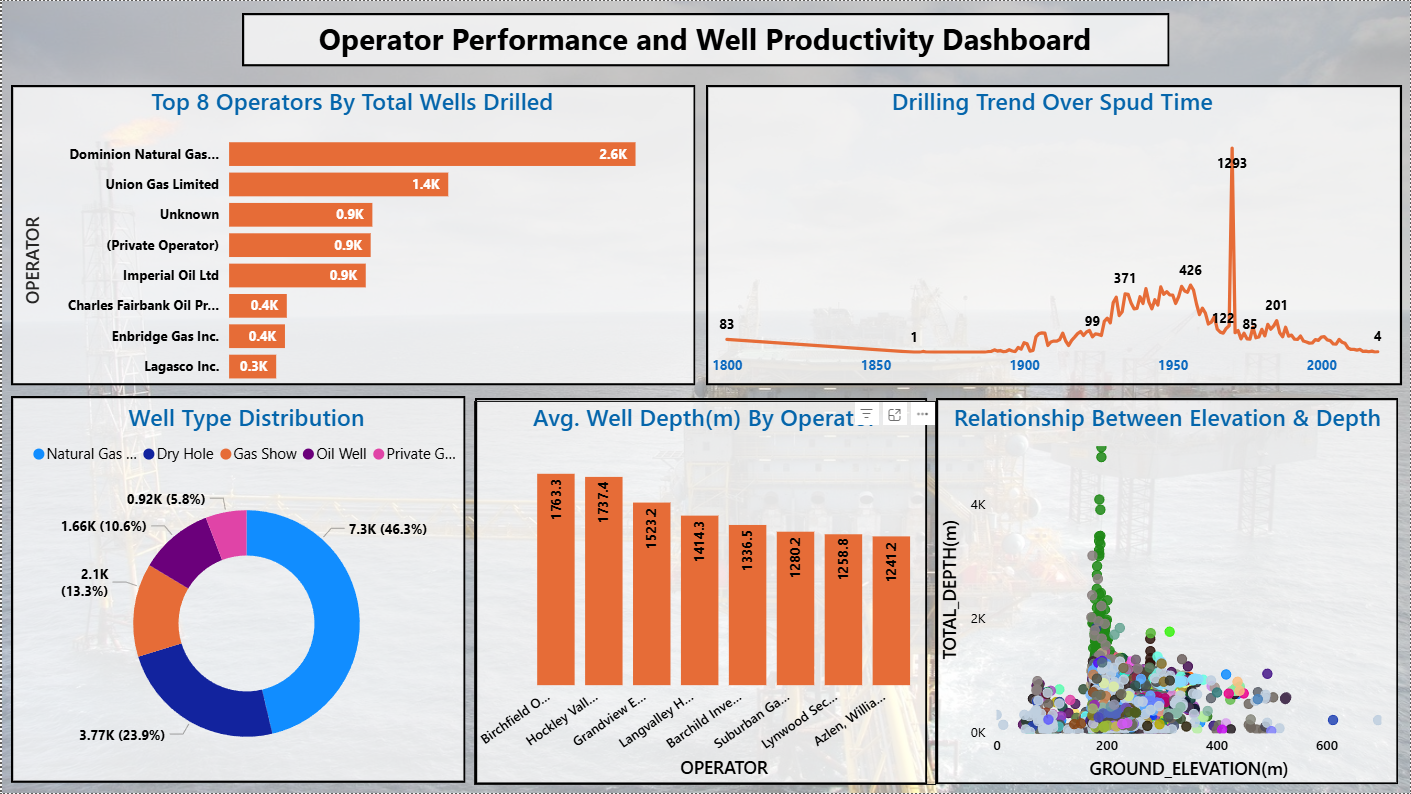

The dashboard page shown, as its layout file describes it:
{"tool":"powerbi","page":{"name":"Visuals","canvas":[1280,720],"ordinal":1},"visuals":[{"type":"shape","box":[218.3,11.2,843.4,48.5],"z":0},{"type":"textbox","box":[262.2,11.2,754.8,51.3],"z":1000},{"type":"shape","box":[8.2,76.3,622.5,273.1],"z":2000},{"type":"shape","box":[8.3,359.2,413.3,351.7],"z":3000},{"type":"shape","box":[640,76.3,632.8,273.1],"z":4000},{"type":"shape","box":[430.2,360.9,411.3,351.5],"z":5000},{"type":"shape","box":[849.2,360.7,420.5,351.4],"z":6000},{"type":"clusteredBarChart","title":"Top 8 Operators By Total Wells Drilled","fields":{"Category":["Petroleum_Well.OPERATOR"],"Y":["Petroleum_Well.WELL_ID"]},"box":[15.6,76,606.2,283.3],"z":7000},{"type":"lineChart","title":"Drilling Trend Over Spud Time","fields":{"Category":["Petroleum_Well.SPUD_DATE.Variation.Date Hierarchy.Year"],"Y":["Petroleum_Well.WELL_ID"]},"box":[640,76.3,629.7,273.1],"z":8000},{"type":"donutChart","title":"Well Type Distribution","fields":{"Category":["Petroleum_Well.WELL_TYPE"],"Y":["Petroleum_Well.WELL_ID"]},"box":[15.9,363.7,413.6,347.8],"z":13000},{"type":"columnChart","title":"Avg. Well Depth(m) By Operator","fields":{"Category":["Petroleum_Well.OPERATOR"],"Y":["Petroleum_Well.TOTAL_DEPTH(m)"]},"box":[429.1,364.1,419.7,348.3],"z":13001},{"type":"scatterChart","title":"Relationship Between Elevation & Depth","fields":{"X":["Petroleum_Well.GROUND_ELEVATION(m)"],"Series":["Petroleum_Well.OPERATOR"],"Y":["Petroleum_Well.TOTAL_DEPTH(m)"]},"box":[849.1,363.6,420.9,349.1],"z":13002}]}

Visuals, with their boxes in screenshot pixels (x1, y1, x2, y2), scaled from the page's 1280x720 canvas onto the 1411x794 screenshot:
shape: crop(241, 12, 1170, 66)
textbox: crop(289, 12, 1121, 69)
shape: crop(9, 84, 695, 385)
shape: crop(9, 396, 465, 784)
shape: crop(706, 84, 1403, 385)
shape: crop(474, 398, 928, 786)
shape: crop(936, 398, 1400, 785)
"Top 8 Operators By Total Wells Drilled" clusteredBarChart: crop(17, 84, 685, 396)
"Drilling Trend Over Spud Time" lineChart: crop(706, 84, 1400, 385)
"Well Type Distribution" donutChart: crop(18, 401, 473, 785)
"Avg. Well Depth(m) By Operator" columnChart: crop(473, 402, 936, 786)
"Relationship Between Elevation & Depth" scatterChart: crop(936, 401, 1400, 786)
